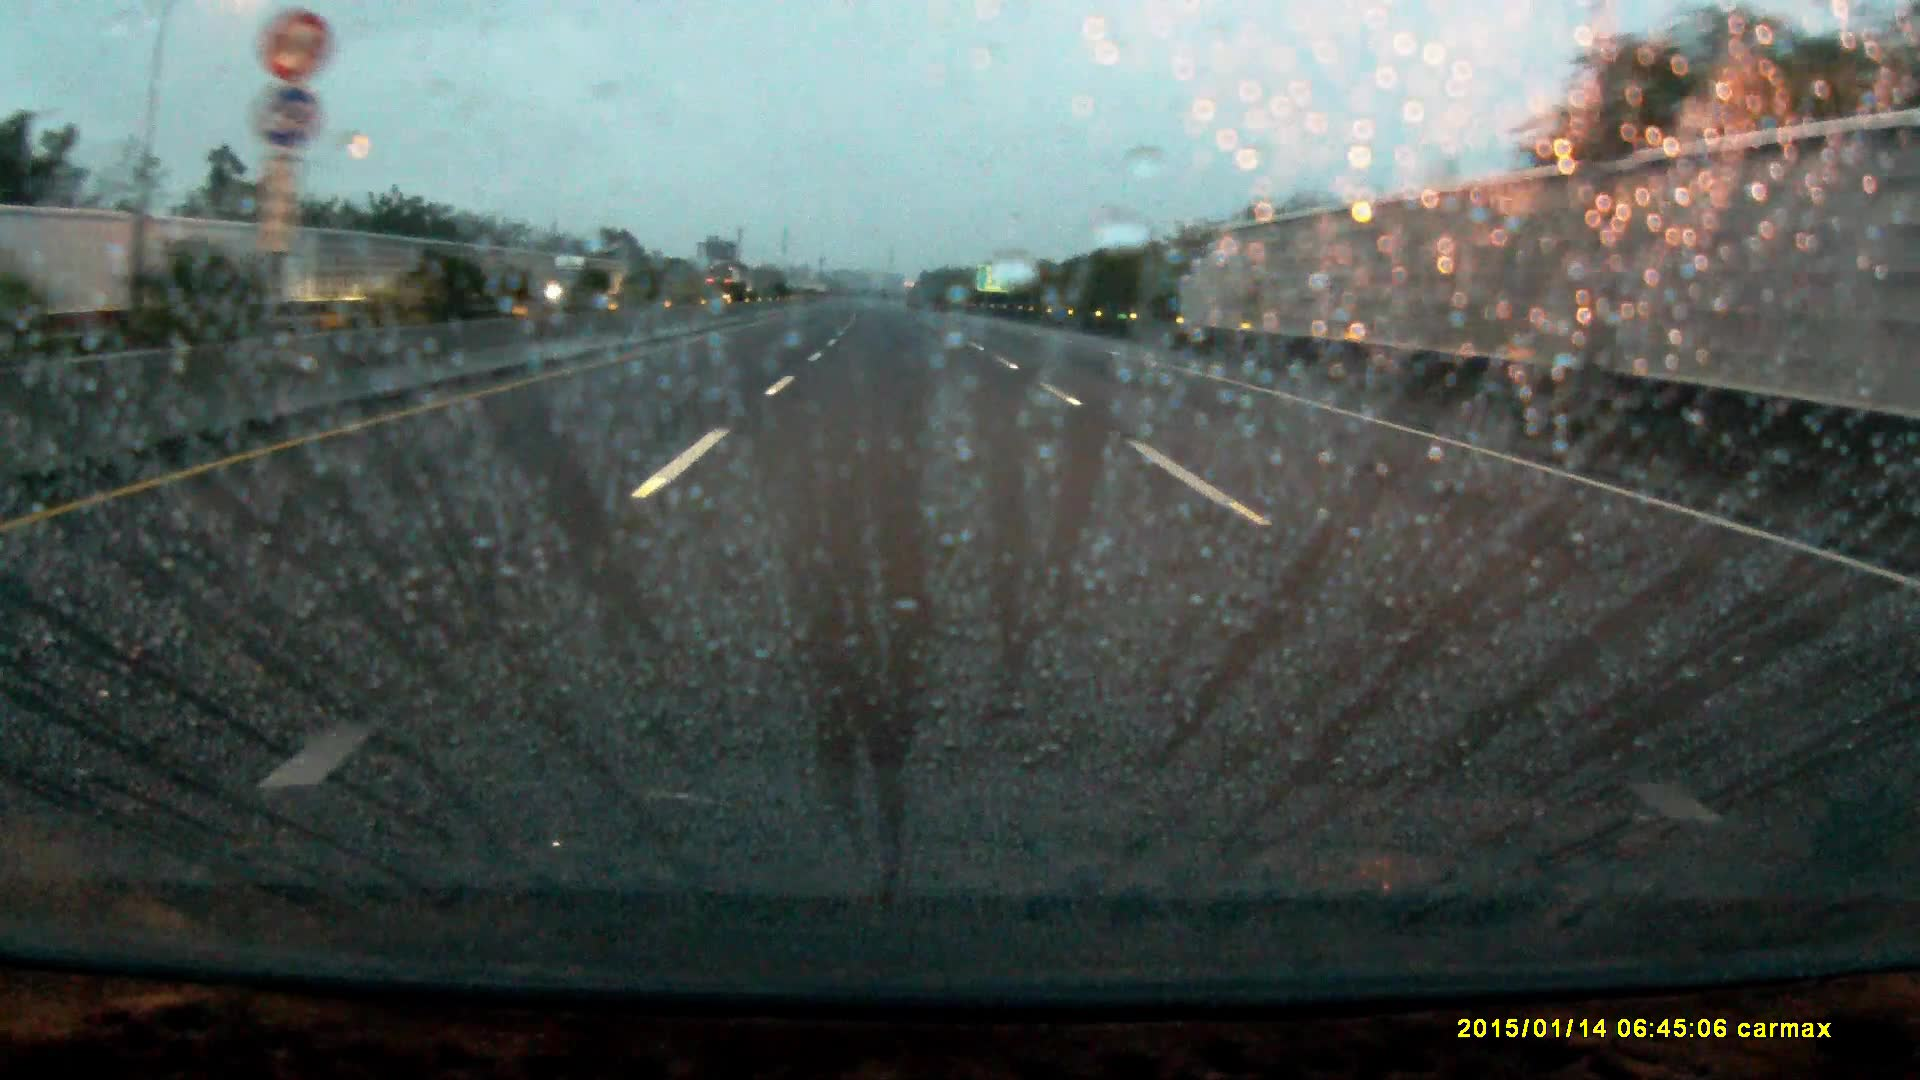vehicle: (546, 256, 615, 305), (704, 273, 741, 307)
